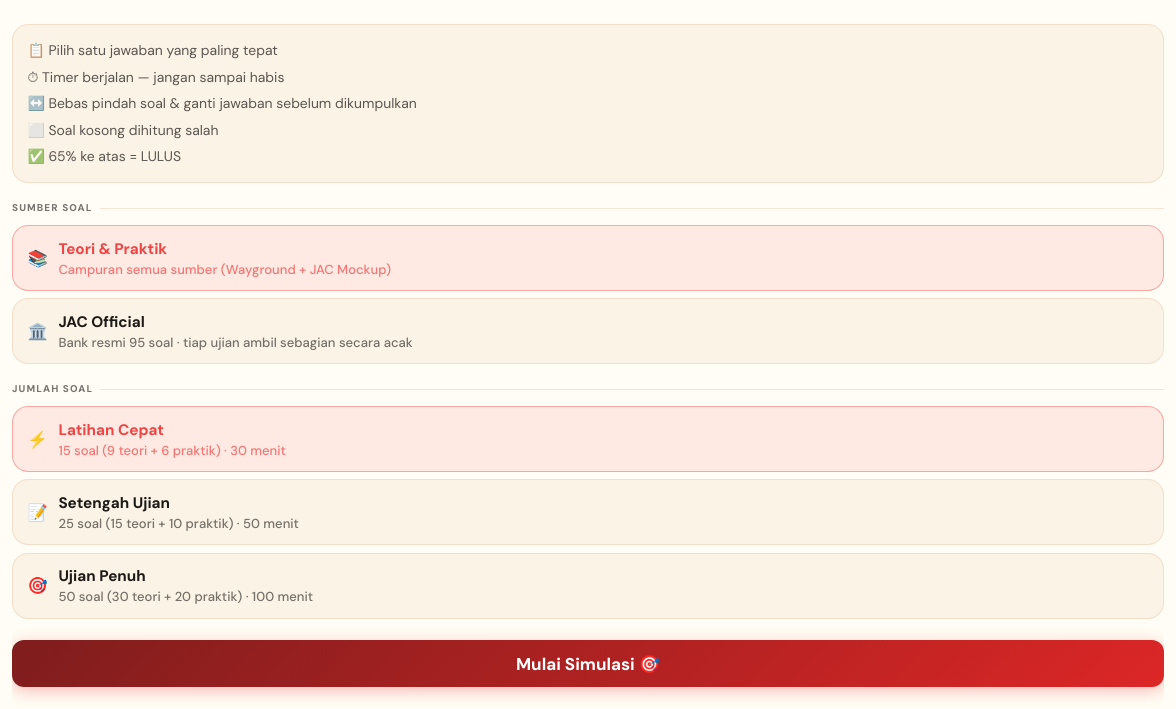
simulasi screen-reader support (item 95) › offers a way past the navigator to the submit button
The image size is (1176, 709).
(page scrolled)
Click the button "Mulai Simulasi 🎯" at (588, 664), box [12,640,1164,687]
(page scrolled)
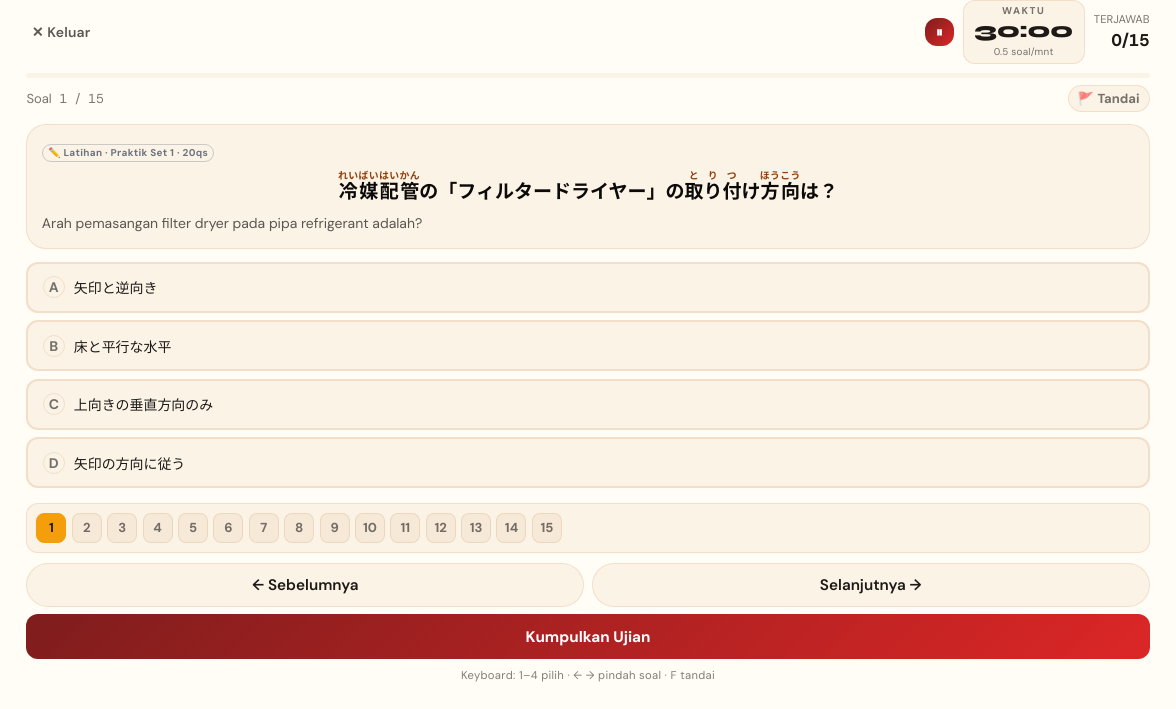
Expected: the button with id "simulasi-kumpulkan" is shown, [26,614,1150,659]
